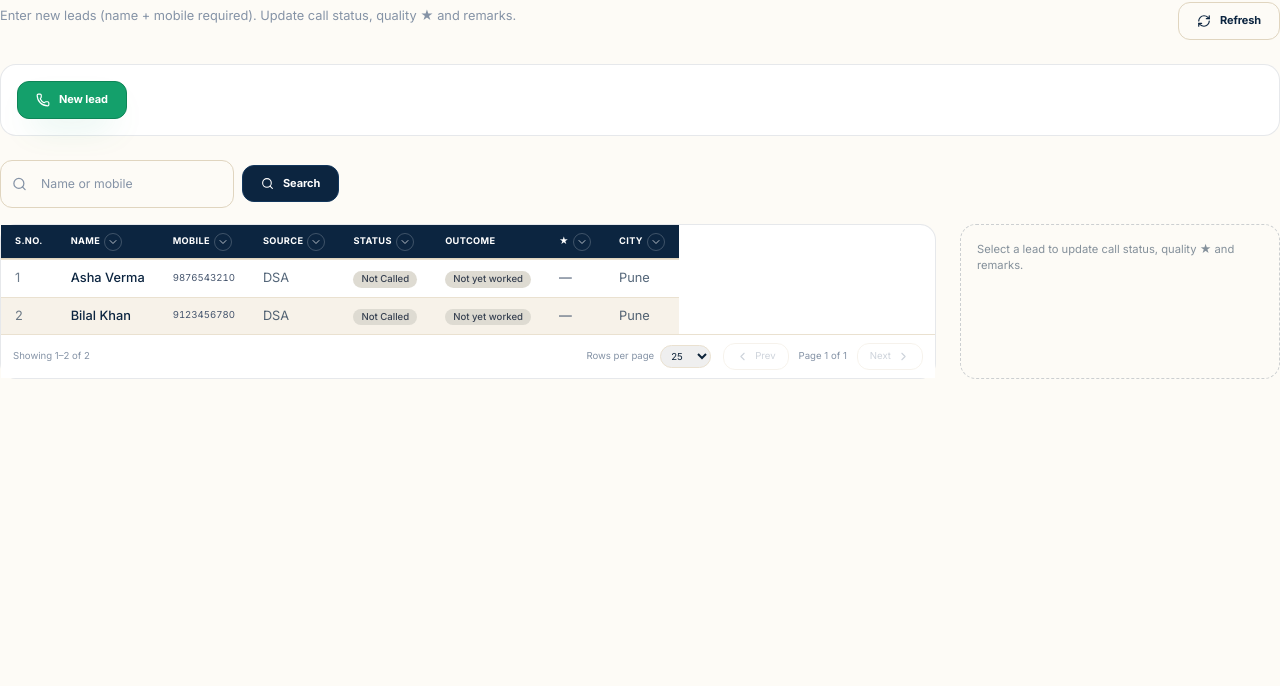
Test: disposition panel › toasts a failure that lands after another lead was picked mid-Save, not on the new lead
Step 1. Click the text "Asha Verma" → (108, 278), box [57, 260, 159, 297]
(page scrolled)
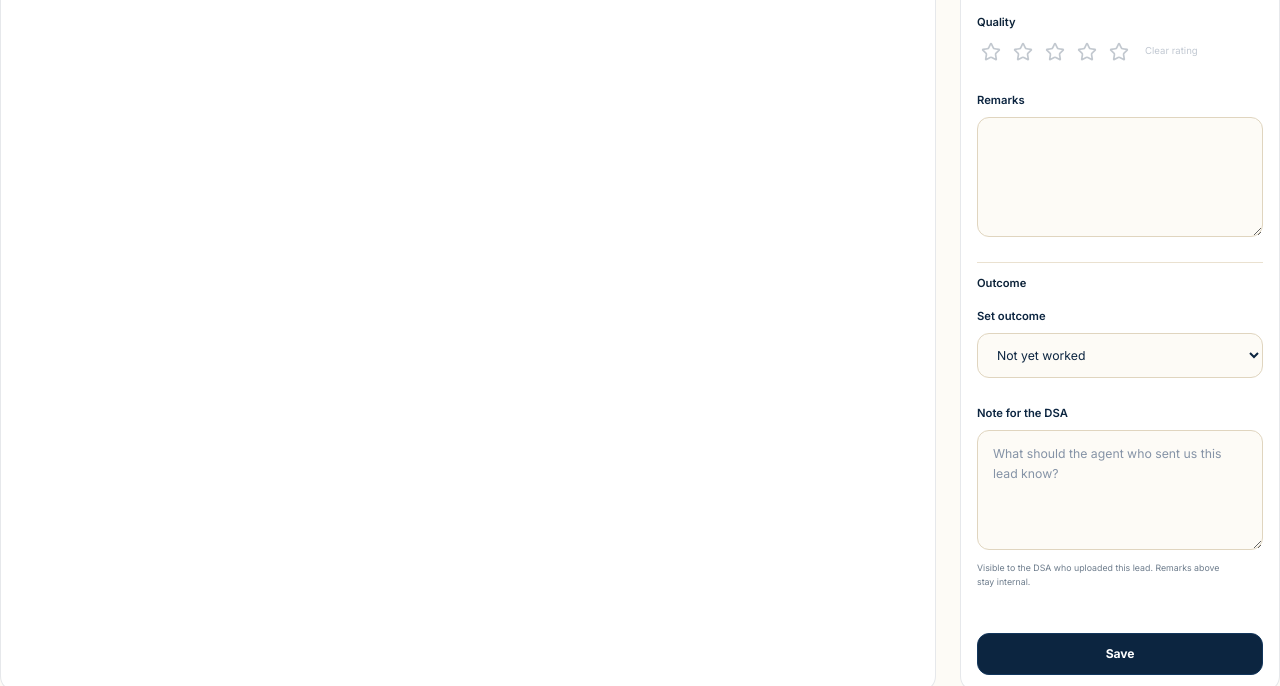
Step 2. Click the button "Save" → (1120, 654), box [977, 633, 1263, 675]
(page scrolled)
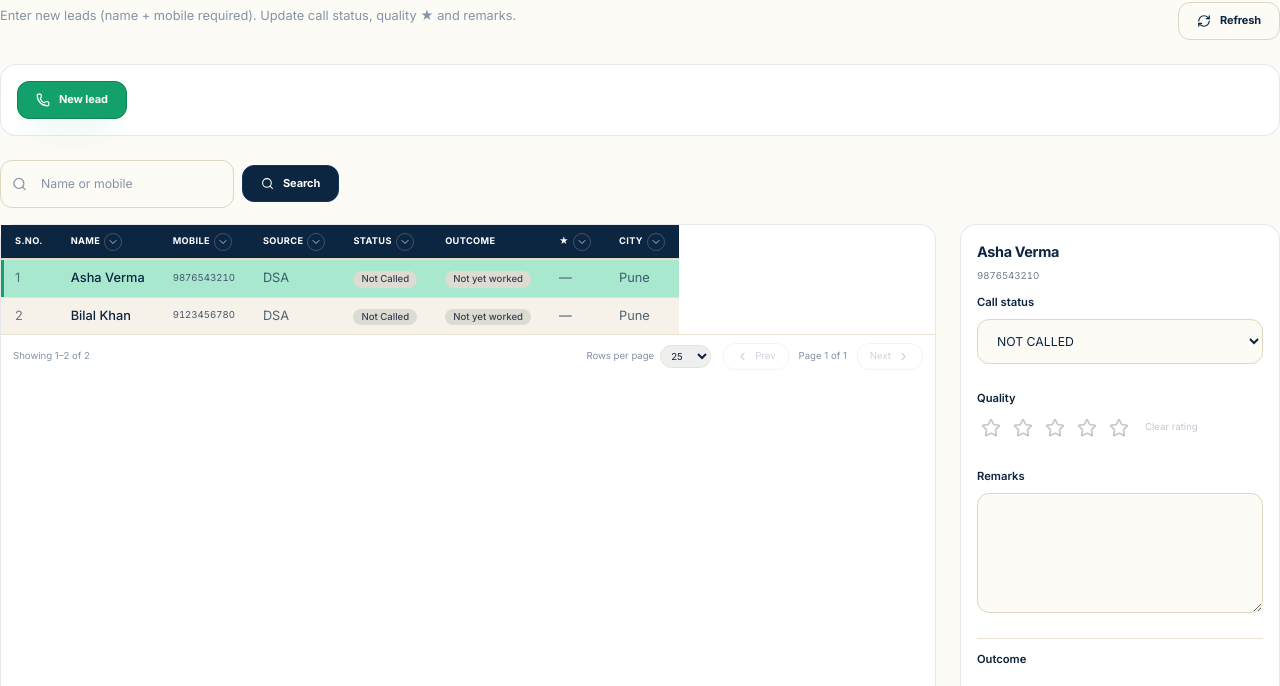
Step 3. Click the text "Bilal Khan" → (108, 316), box [57, 297, 159, 334]
(page scrolled)
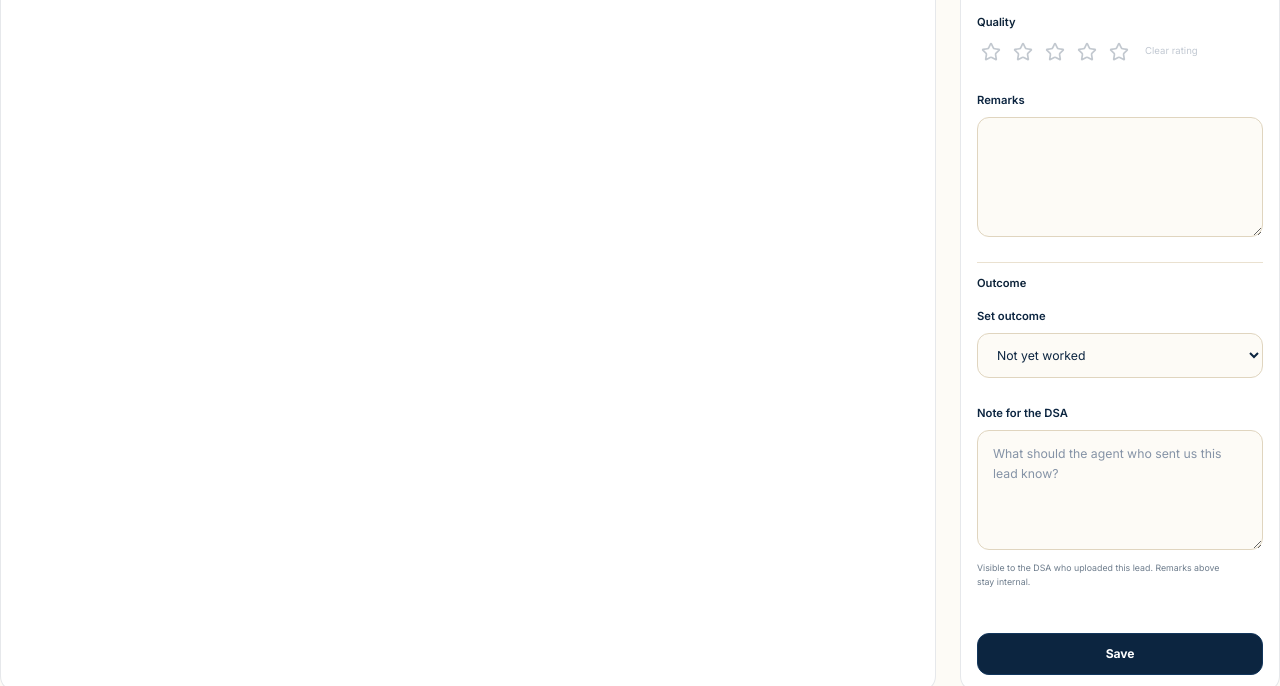
Expected: the button "Save" is enabled, [977, 633, 1263, 675]
